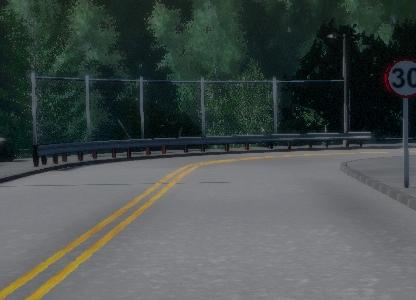Speed_30: (381, 55, 416, 99)
